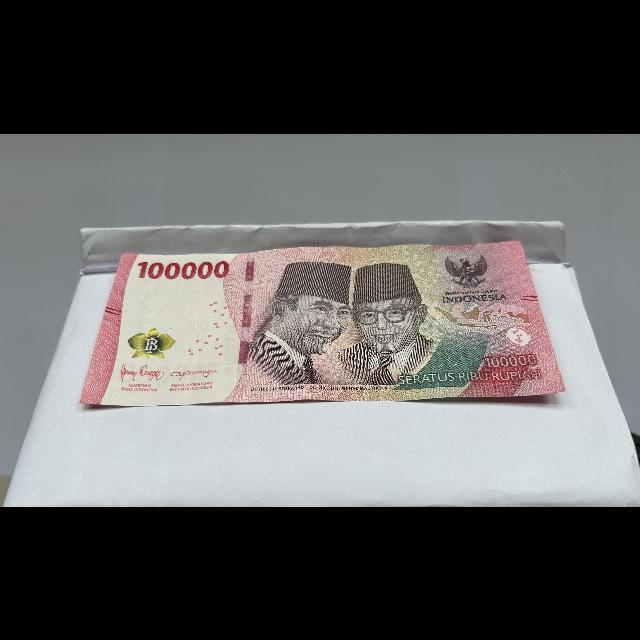Asli-100k: (74, 237, 571, 405)
Tinta-Asli-100k: (122, 325, 179, 361)
